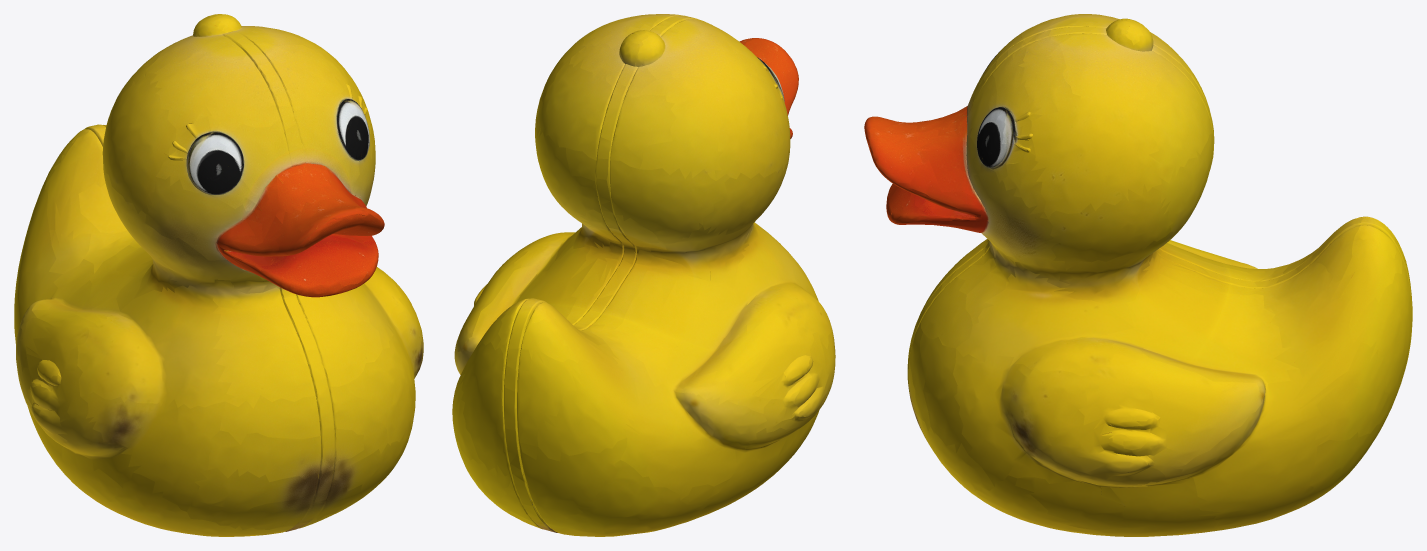
The model's file is paperella.glb.
3 renders of one model, left to right at view 1: azimuth 30°, elevation 25°; view 2: azimuth 150°, elevation 25°; view 3: azimuth 270°, elevation 25°, orthographic. The views are drawn at different scales.
Bounding box in the file's own units: 1.43 × 1.76 × 1.9.
1 material, 1 textured.
